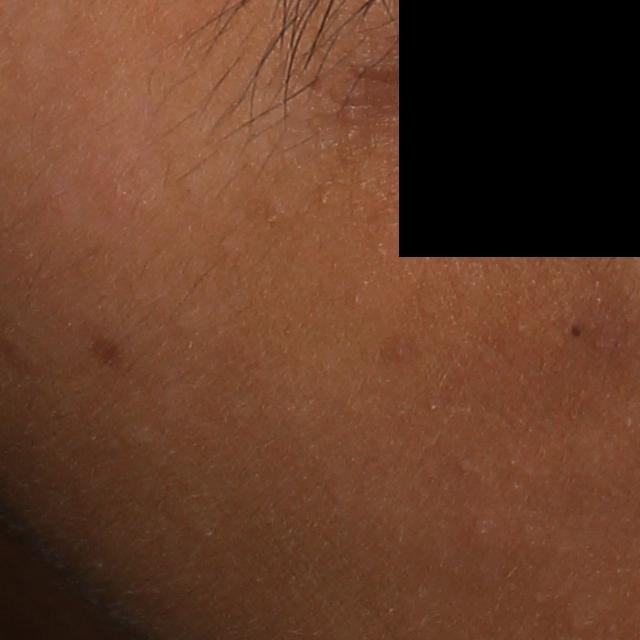nevus: (75, 323, 120, 370), (569, 322, 583, 342)
